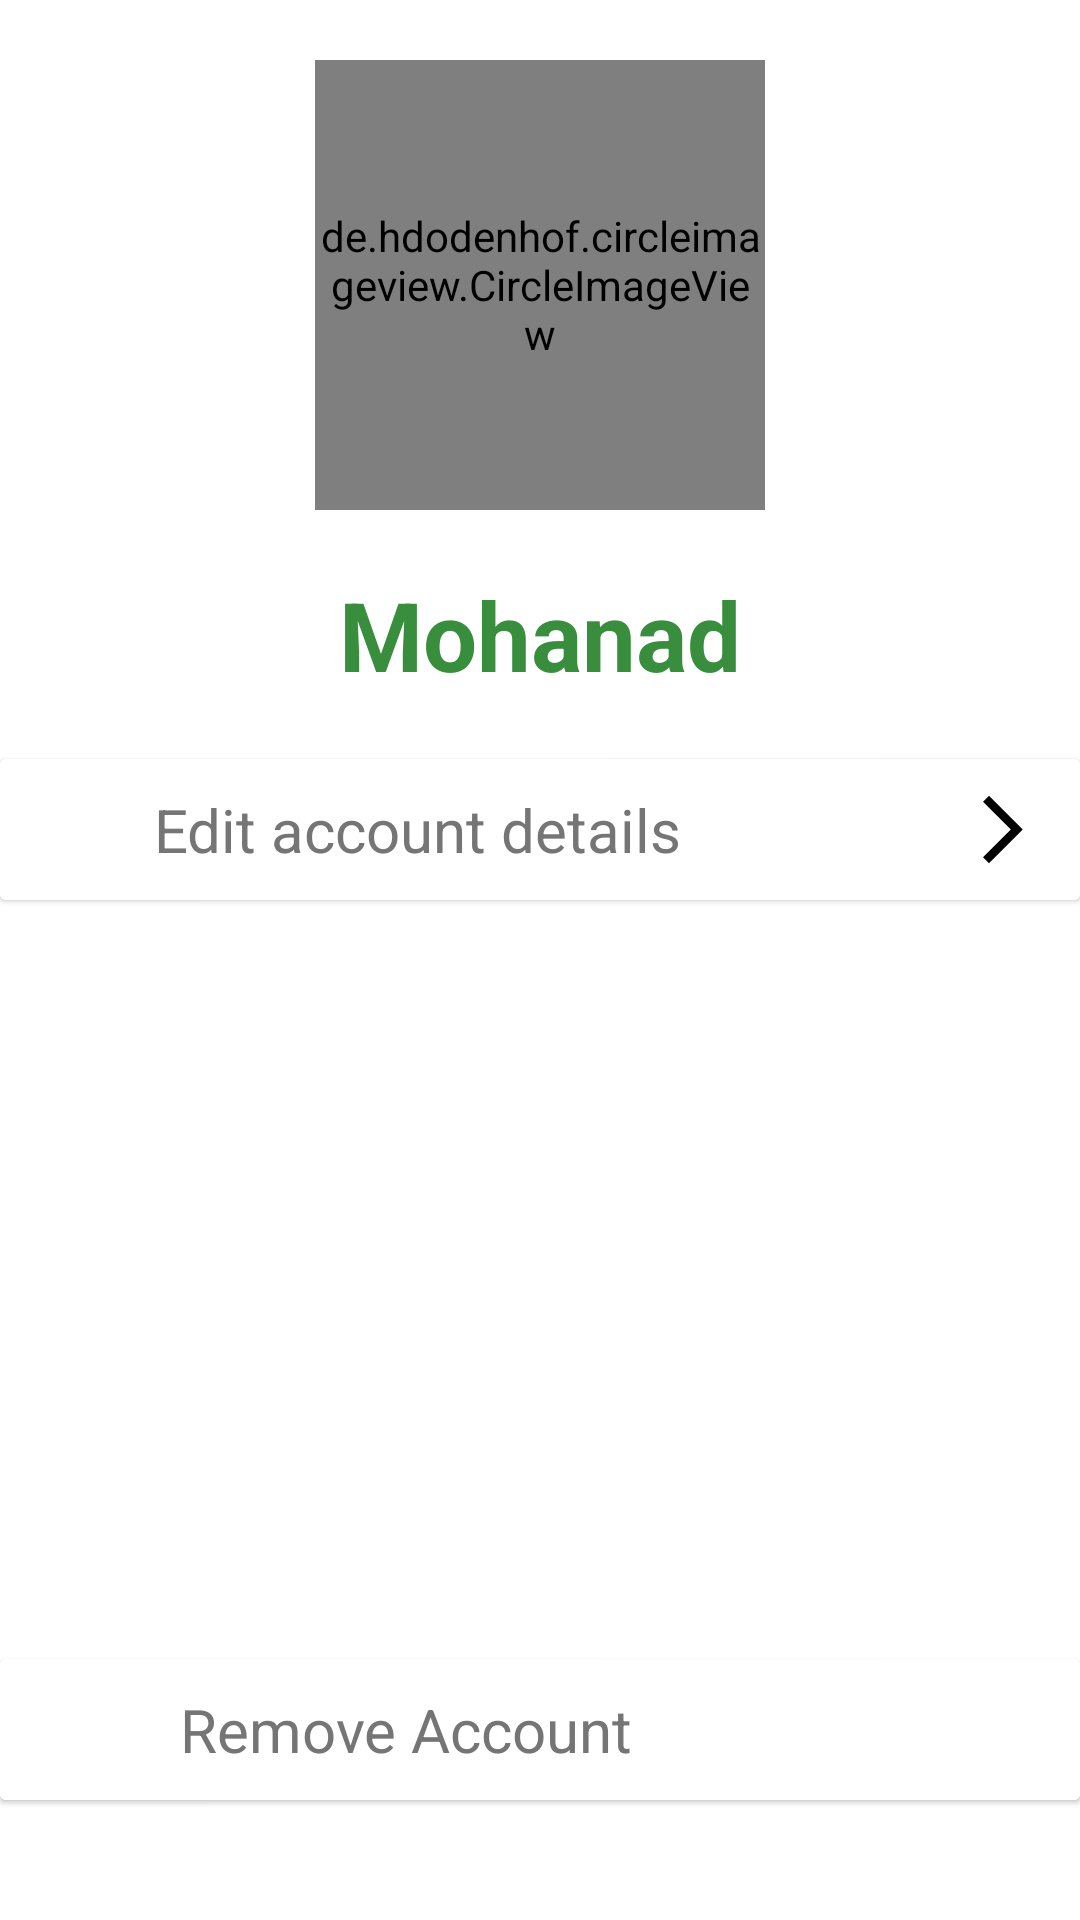

Icon bounding boxes for this 1080 x 1920 phone screenshot, format (x1, y1, x2, y2):
arrow forward: (983, 796, 1023, 863)
